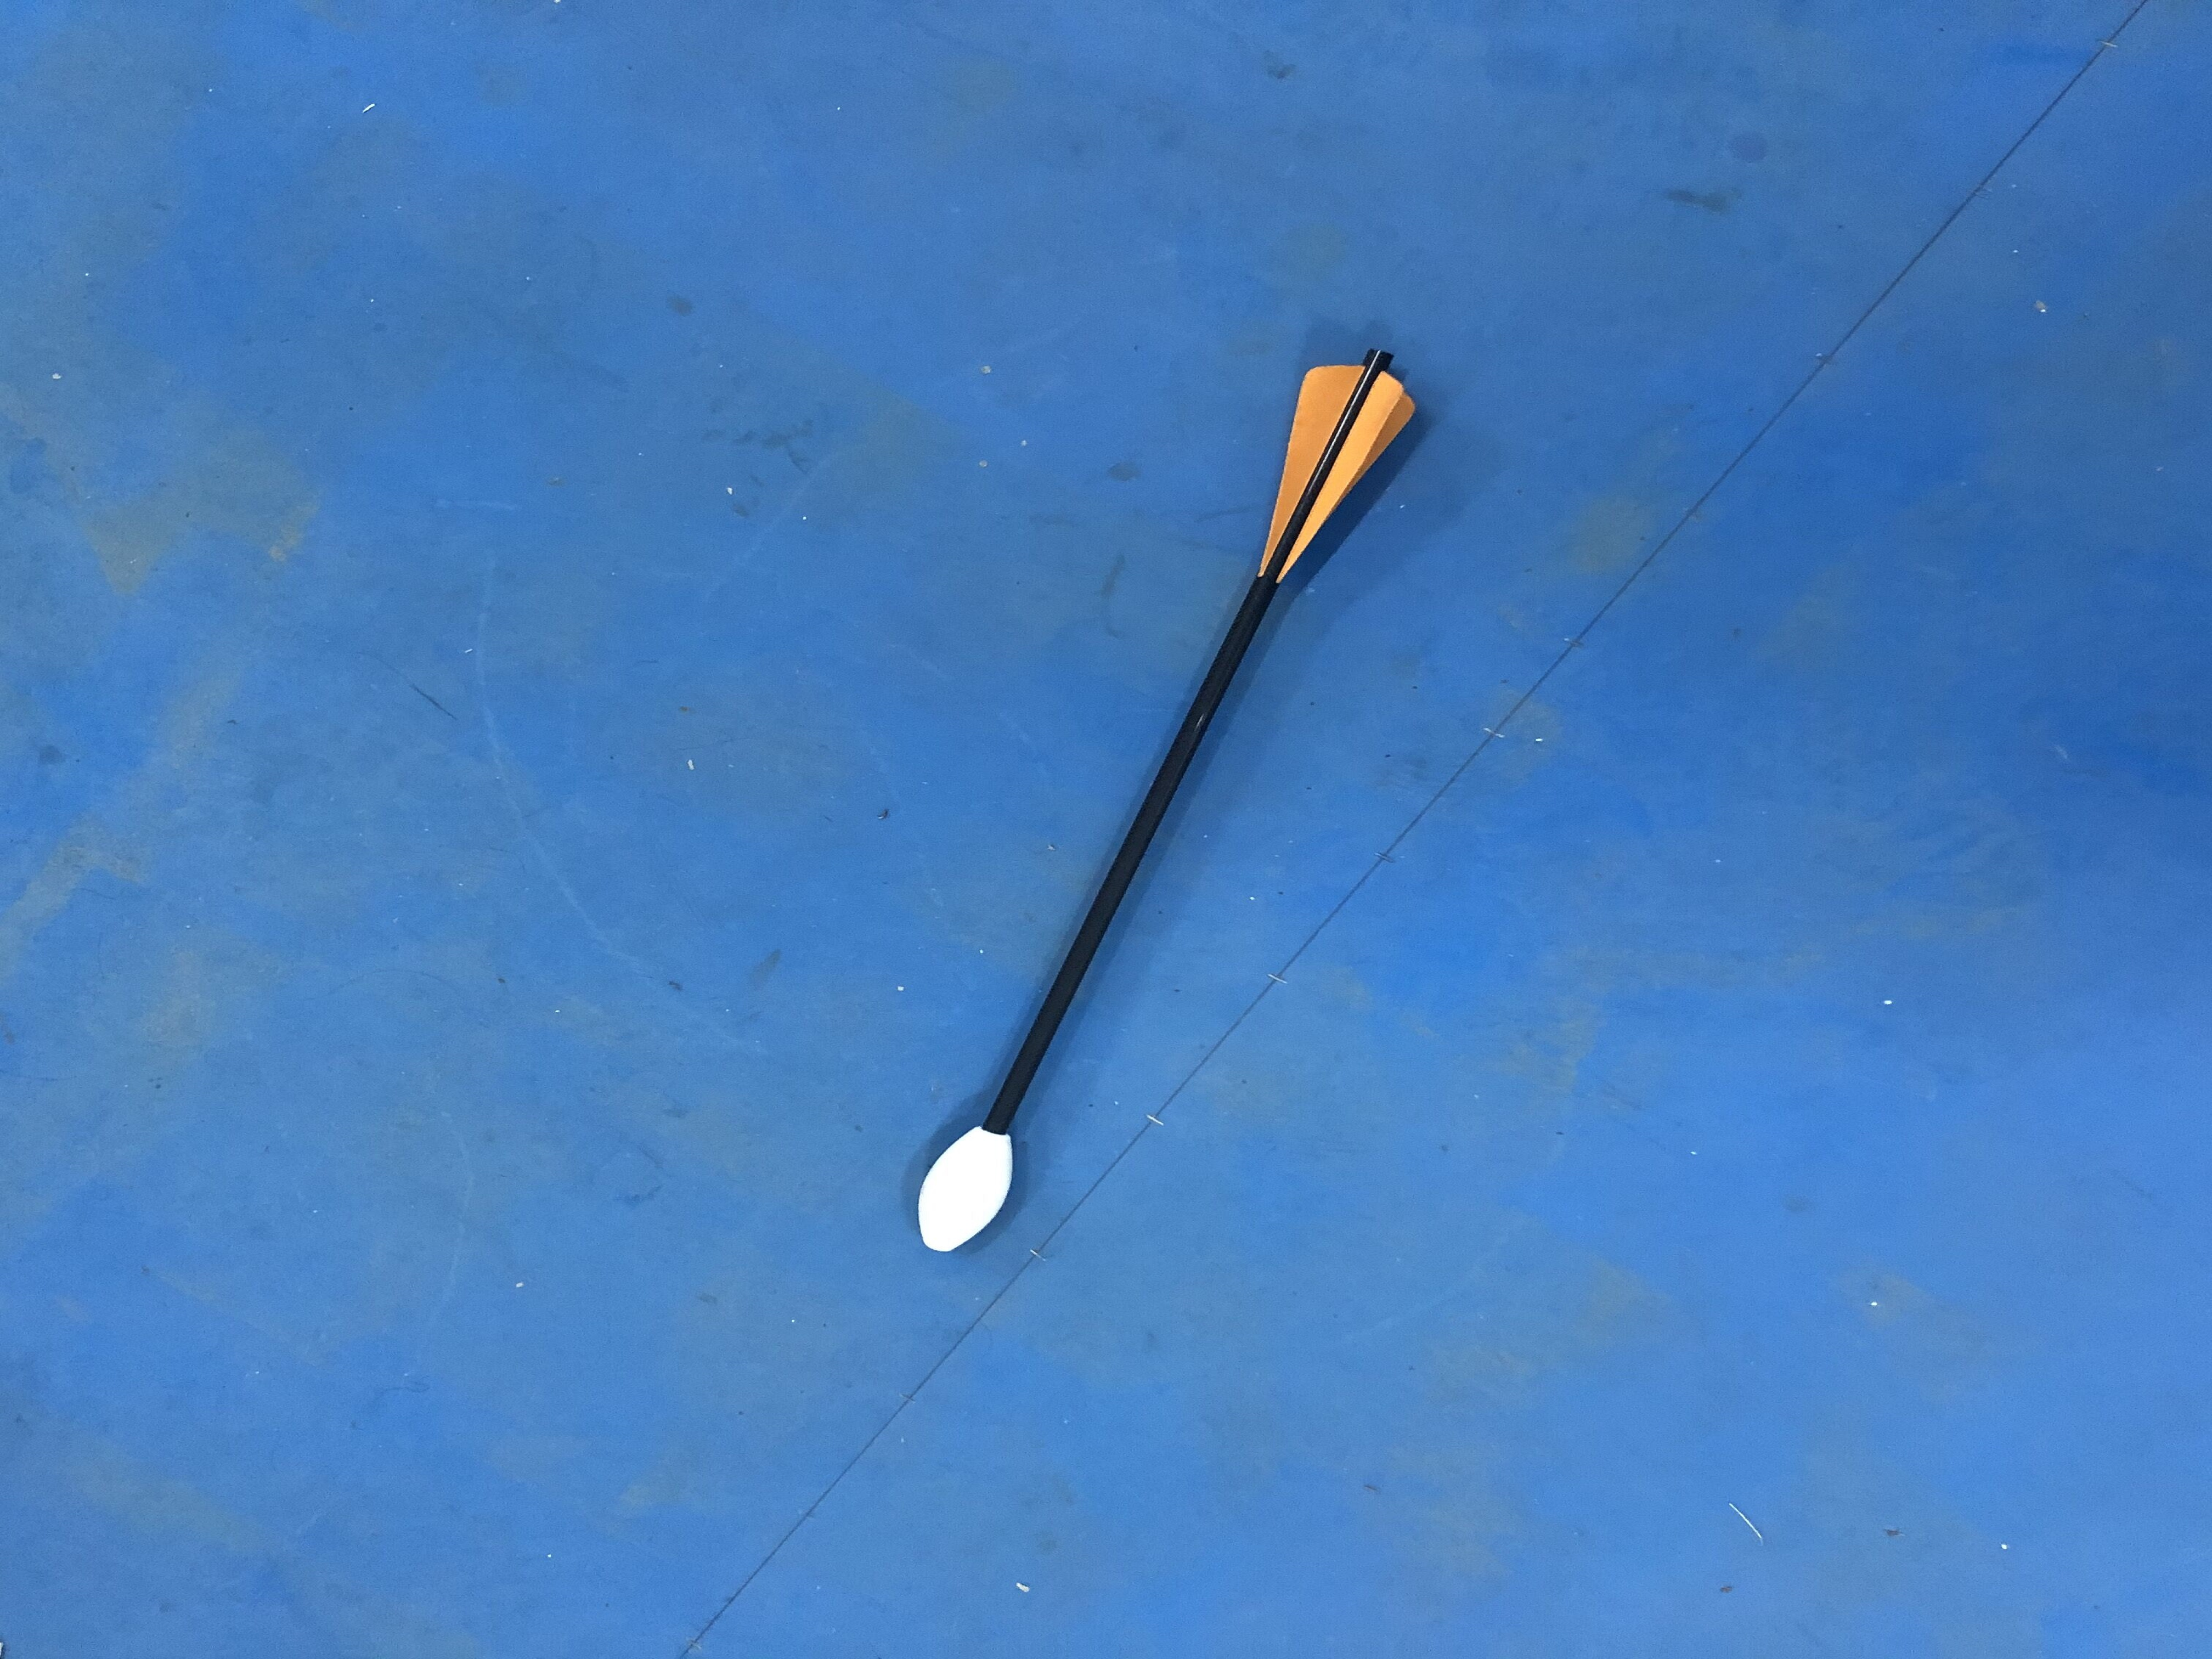arrow: (911, 342, 1420, 1258)
arrowFront: (911, 1121, 1015, 1260)
